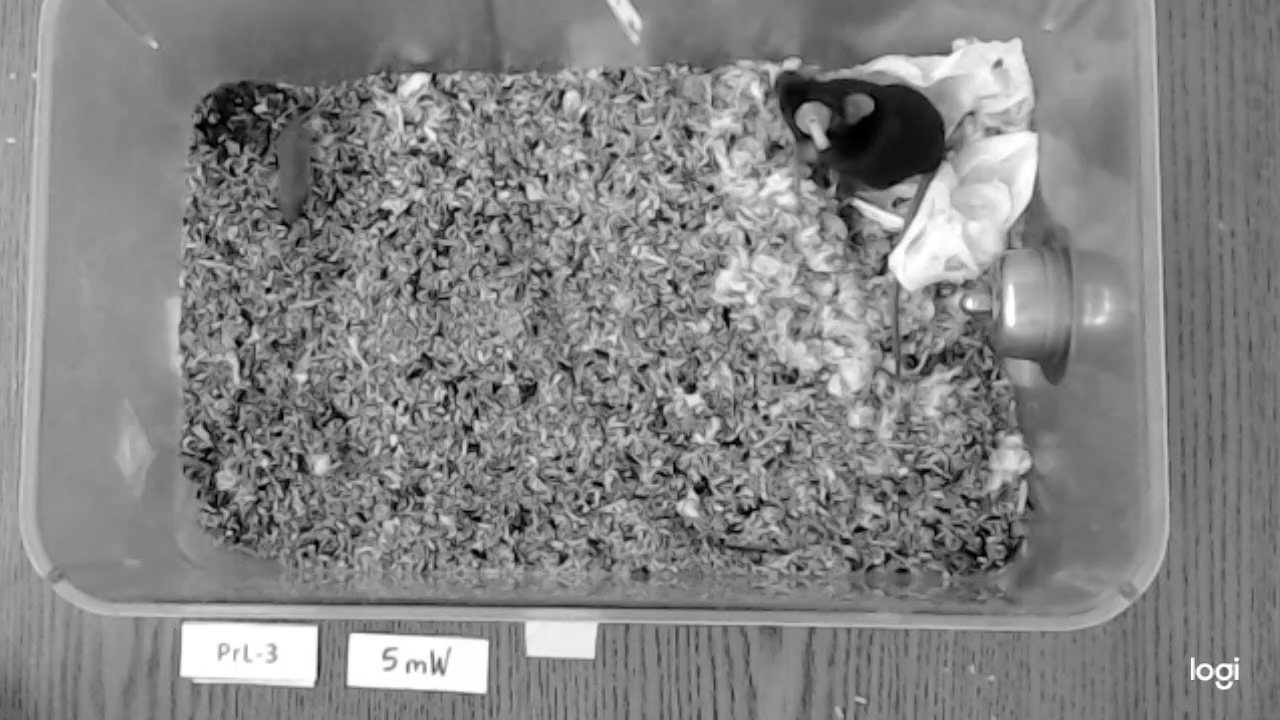child-mice: (272, 119, 315, 225)
